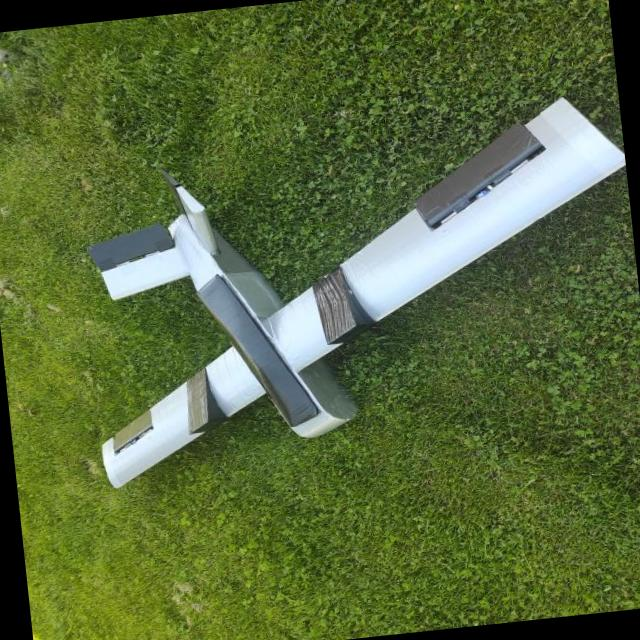UAV: (34, 114, 635, 539)
